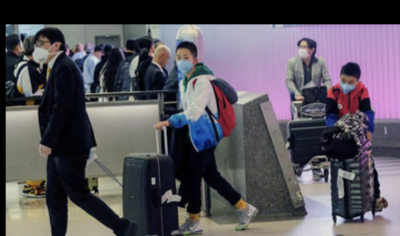with_mask: (30, 39, 51, 65), (174, 53, 192, 74), (338, 76, 357, 94), (296, 44, 310, 60)
